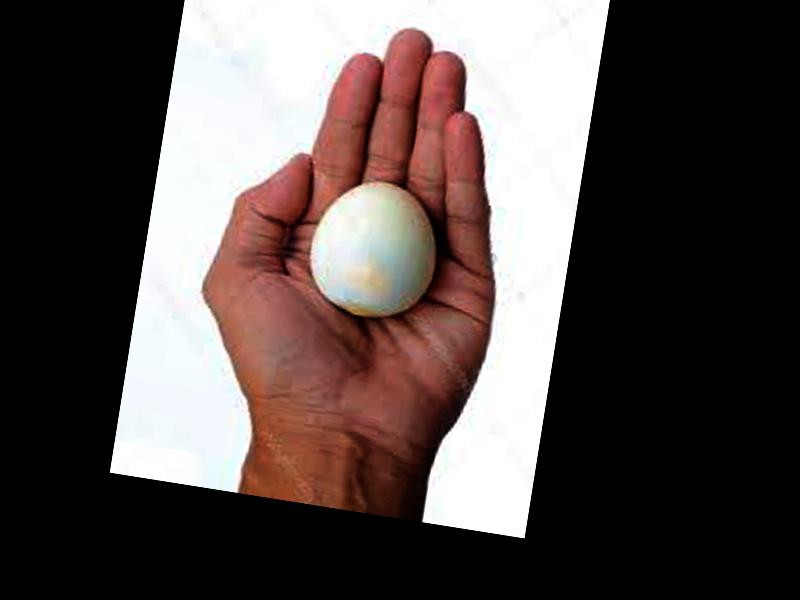Eggs: (304, 170, 444, 325)
